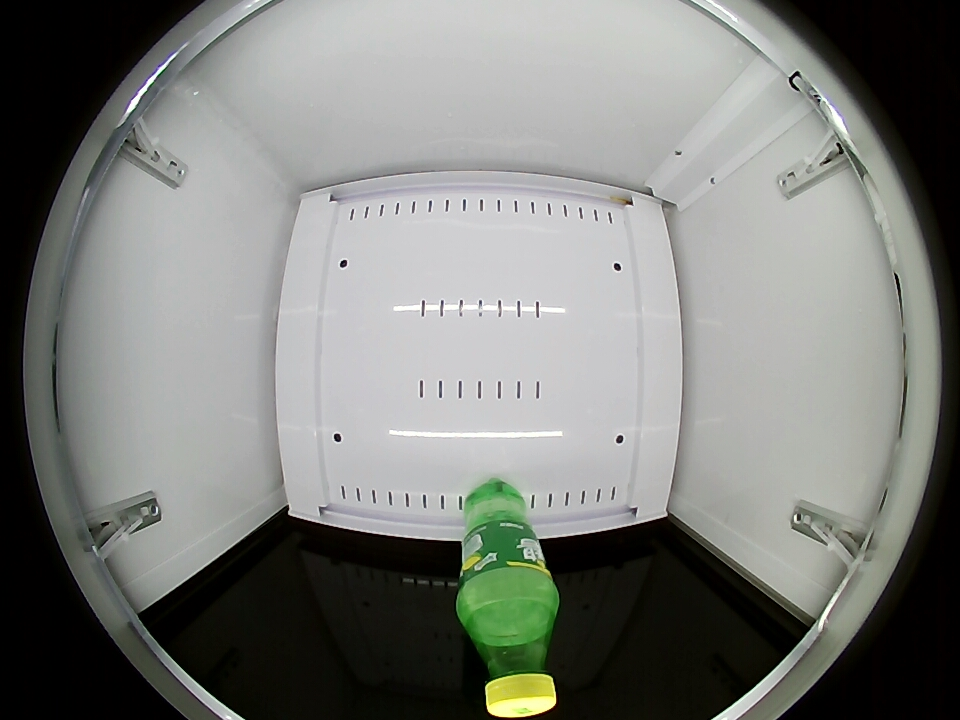xuebi-b: (462, 599, 557, 716)
